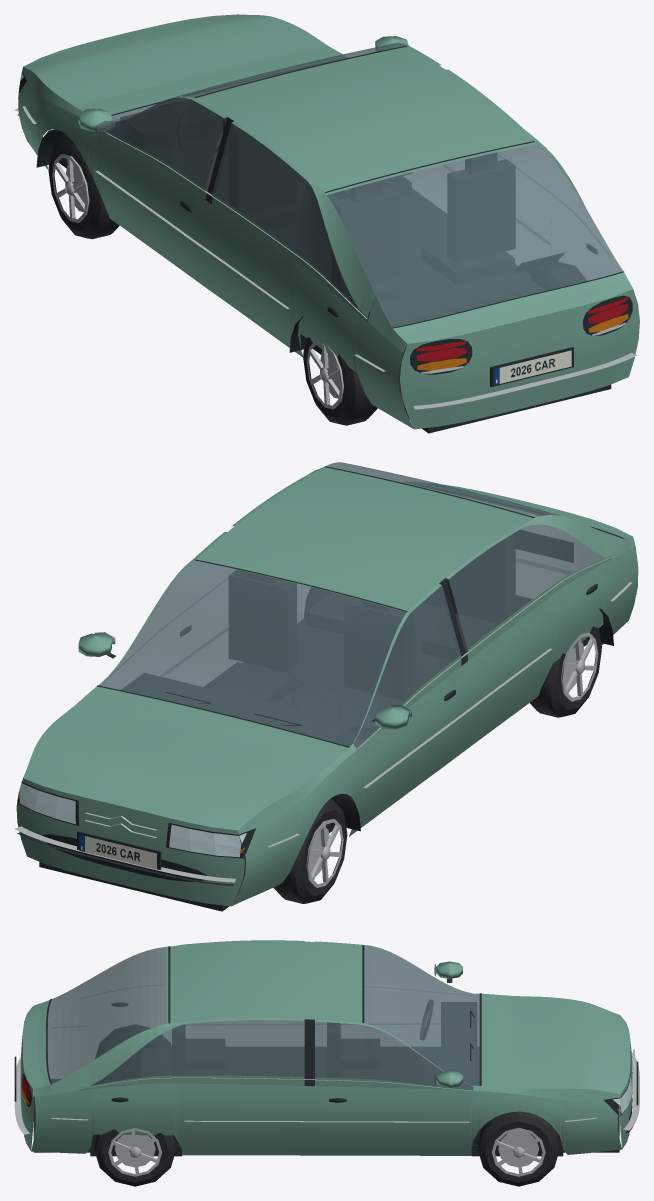
File: Entrega_26_LOD1.glb
3 views of the same model, one above another, from view 1: azimuth 30°, elevation 25°; view 2: azimuth 150°, elevation 25°; view 3: azimuth 270°, elevation 25° (orthographic). The views are drawn at different scales.
Parts seen in each view (by area): view 1: Body, Glass, Interior, Wheel_FL, Wheel_RL, Plates, Wheel_RR, BrakeLights; view 2: Body, Glass, Interior, Wheel_FL, Wheel_RL, Headlights, Plates; view 3: Body, Glass, Interior, Wheel_FR, Wheel_RR, Wheel_RL.
Part boxes in pixels (left/top/right/bottom): Body: left=14, top=14, right=639, bottom=433; Glass: left=94, top=43, right=623, bottom=327; Interior: left=121, top=102, right=543, bottom=326; Wheel_FL: left=48, top=134, right=119, bottom=239; Wheel_RL: left=303, top=337, right=377, bottom=425; Plates: left=494, top=350, right=571, bottom=385; Wheel_RR: left=531, top=262, right=586, bottom=290; BrakeLights: left=416, top=304, right=628, bottom=361; Body: left=14, top=466, right=638, bottom=911; Glass: left=94, top=462, right=622, bottom=748; Interior: left=122, top=535, right=514, bottom=748; Wheel_FL: left=273, top=798, right=347, bottom=903; Wheel_RL: left=530, top=626, right=601, bottom=717; Headlights: left=19, top=783, right=246, bottom=857; Plates: left=79, top=834, right=156, bottom=869; Body: left=14, top=940, right=639, bottom=1156; Glass: left=47, top=945, right=479, bottom=1090; Interior: left=141, top=1000, right=481, bottom=1128; Wheel_FR: left=477, top=1111, right=559, bottom=1186; Wheel_RR: left=94, top=1128, right=176, bottom=1186; Wheel_RL: left=95, top=1024, right=170, bottom=1078.
Size of the model in its own units: 2.1 by 1.35 by 4.64.
Materials: 13 (1 with a texture image).
